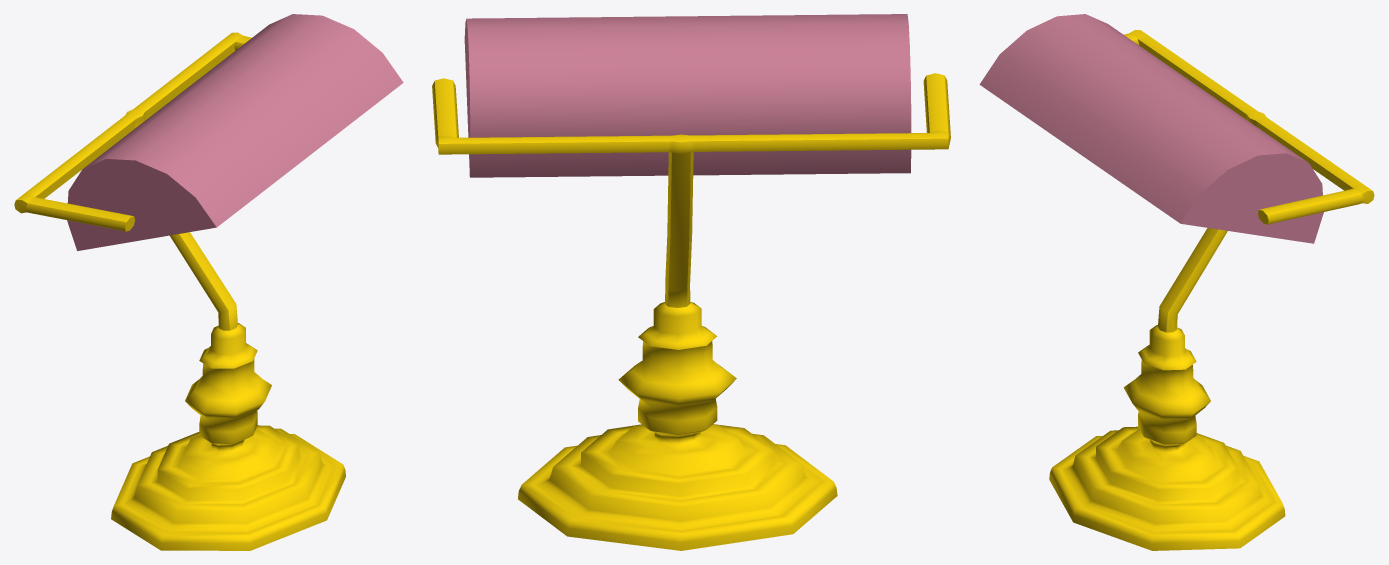
The picture shows the model from 3 angles, left to right: view 1: azimuth 30°, elevation 25°; view 2: azimuth 150°, elevation 25°; view 3: azimuth 270°, elevation 25°; orthographic projection. The views are drawn at different scales.
Visible parts, largest first — view 1: lamp; view 2: lamp; view 3: lamp.
Boxes of the visible parts, x1,y1,x2,y2 form: lamp: (14,14,403,550); lamp: (432,14,950,550); lamp: (979,14,1374,550).
Bounding box in the file's own units: 0.4128 × 0.4 × 0.3494.
